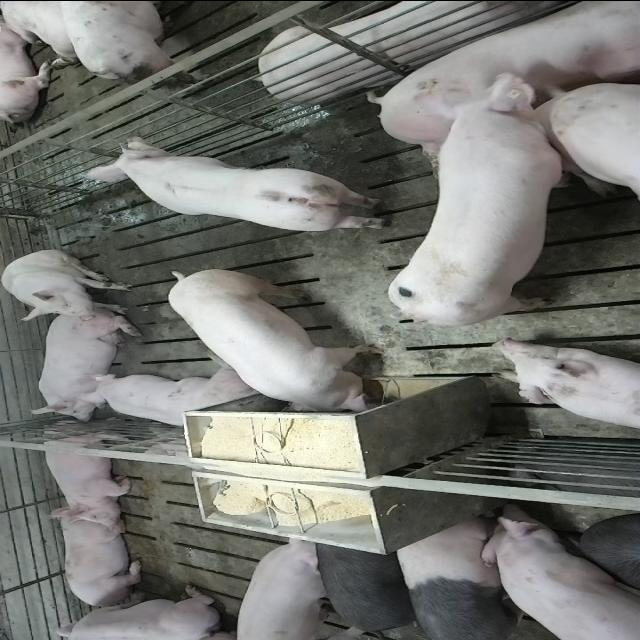Feeding: (167, 272, 390, 422)
Lateral_lying: (369, 0, 640, 163), (257, 0, 607, 102)
Sitting: (2, 249, 136, 320)
Standing: (380, 70, 574, 323), (82, 134, 400, 234), (473, 502, 640, 638), (393, 512, 567, 638), (542, 81, 636, 216), (233, 532, 349, 640), (312, 534, 418, 638)
Sternal_lying: (493, 339, 640, 434), (26, 314, 136, 424), (82, 368, 260, 430), (42, 583, 230, 637), (36, 426, 136, 524), (51, 510, 147, 608)
